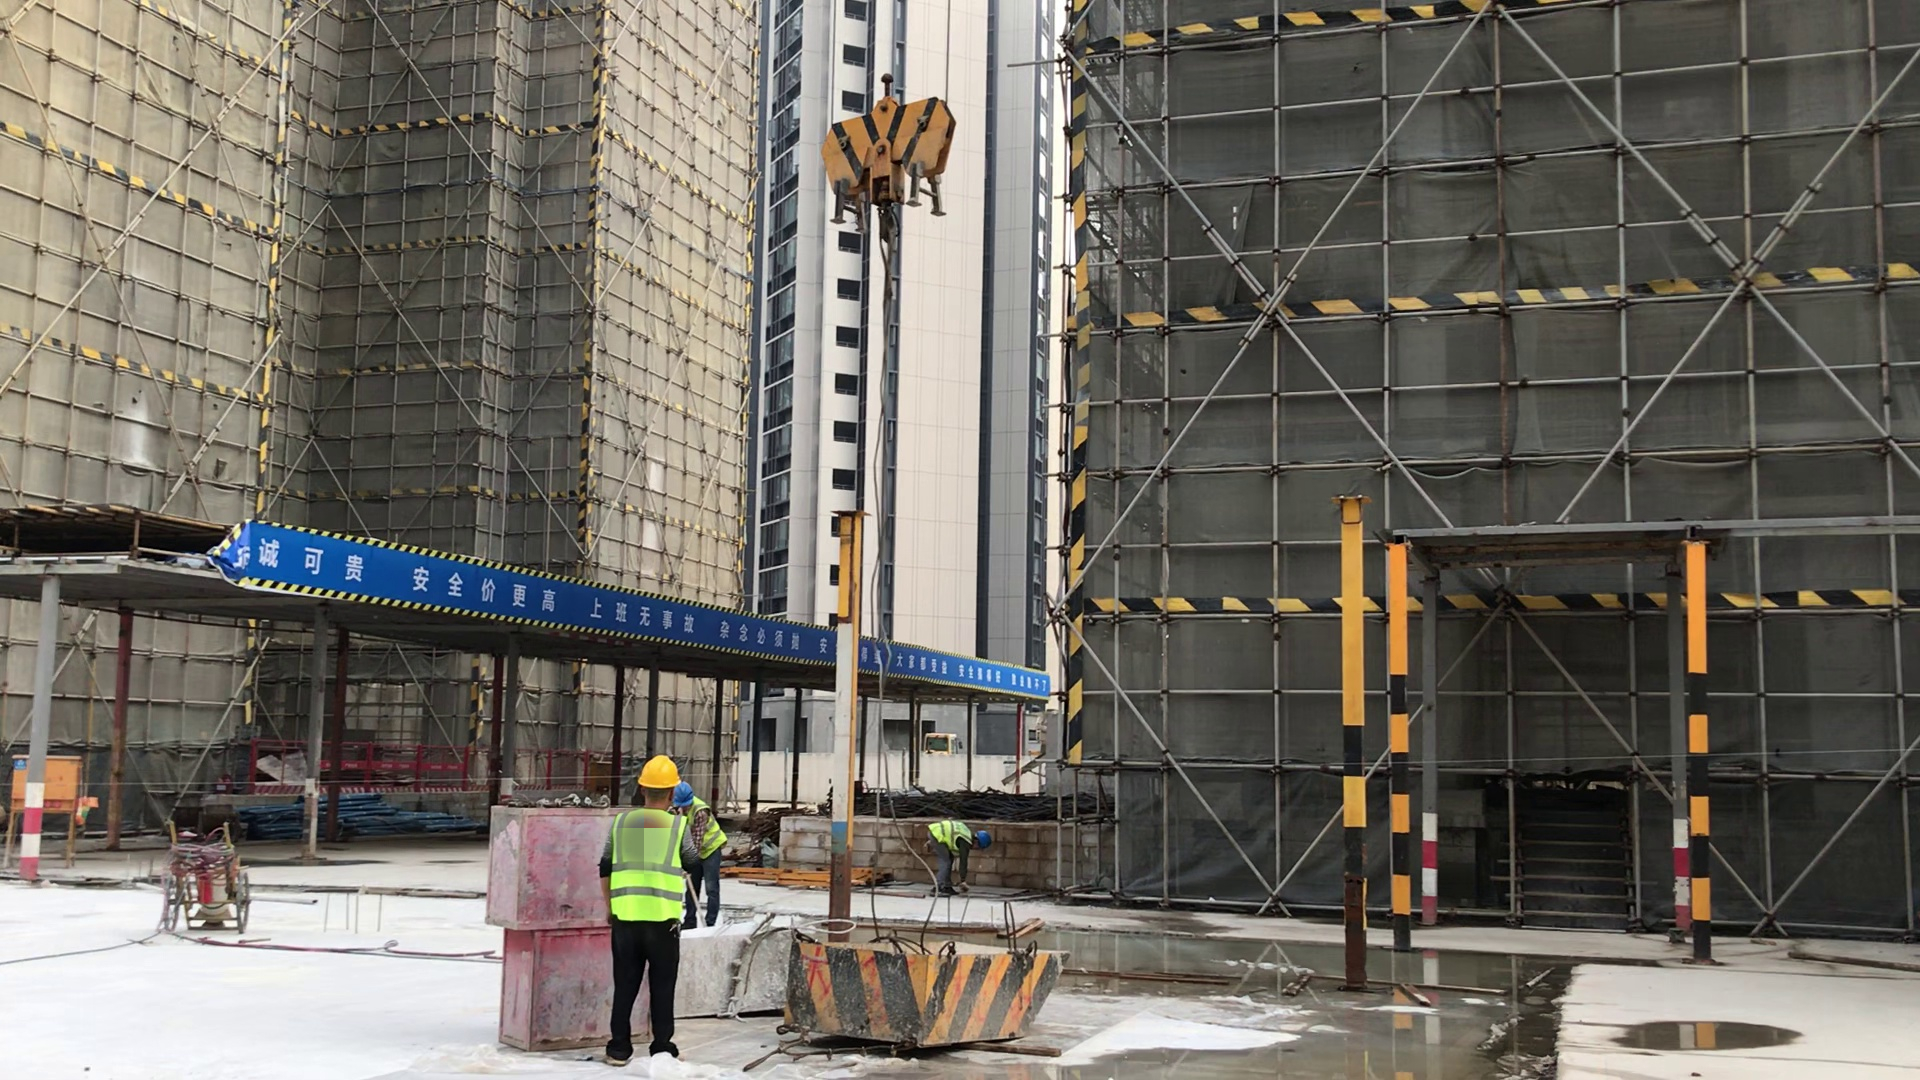ebox: (8, 751, 82, 812)
fence: (255, 741, 617, 801)
handcart: (167, 811, 247, 938)
helmet: (634, 755, 680, 787), (674, 781, 692, 807), (975, 829, 991, 852)
hook: (821, 76, 954, 245)
hopper: (790, 939, 1081, 1041), (686, 927, 821, 1014)
person: (601, 754, 700, 1065), (672, 781, 728, 932), (922, 818, 991, 899)
slogan: (228, 520, 1048, 706)
vest: (609, 810, 683, 923), (681, 798, 727, 858), (924, 820, 972, 855)
